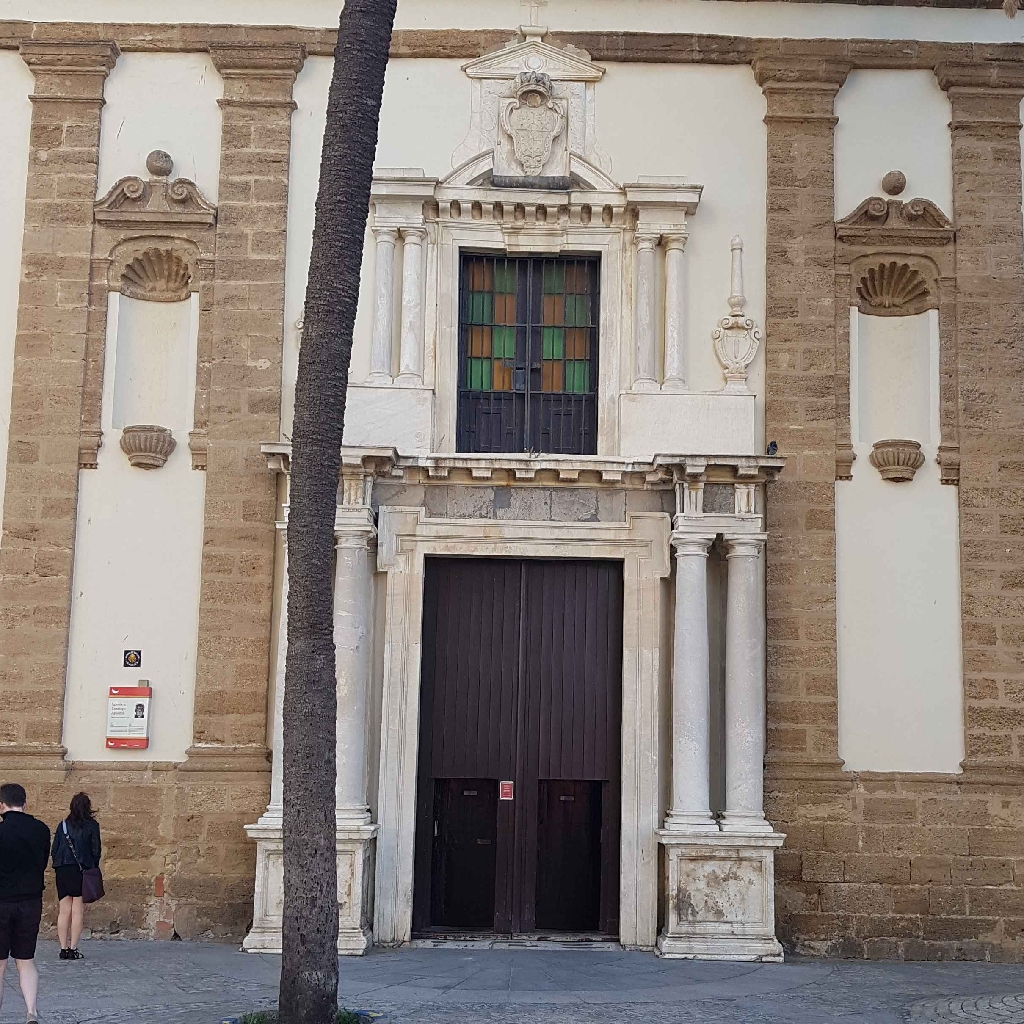fronton: (460, 37, 603, 86)
fronton-partido: (438, 148, 621, 199), (88, 173, 218, 226), (830, 194, 960, 242)
vano-adintelado: (383, 506, 660, 946), (428, 209, 625, 468)
